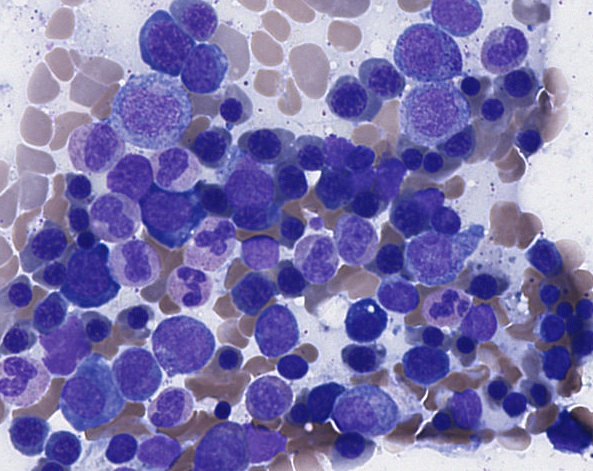objectness: (327, 388, 377, 438), (190, 213, 240, 263), (420, 279, 470, 329), (145, 384, 195, 434), (166, 258, 216, 308), (68, 119, 118, 169), (327, 214, 377, 264), (244, 369, 294, 419), (148, 139, 198, 189), (481, 24, 531, 74), (87, 189, 137, 239), (290, 234, 340, 284), (111, 238, 161, 288), (111, 344, 161, 394), (251, 303, 301, 353), (62, 372, 112, 422), (534, 337, 584, 387), (307, 158, 357, 208), (295, 376, 345, 426), (487, 382, 537, 432), (407, 229, 457, 279), (526, 304, 576, 354), (38, 320, 88, 370), (416, 395, 466, 445), (452, 297, 502, 347), (336, 131, 386, 181), (311, 126, 361, 176), (539, 288, 589, 338), (520, 270, 570, 320), (442, 383, 492, 433), (372, 271, 422, 321), (234, 225, 284, 275), (421, 194, 471, 244), (94, 421, 144, 471), (339, 296, 389, 346), (265, 341, 315, 391), (325, 420, 375, 470), (468, 83, 518, 133), (471, 365, 521, 415), (183, 120, 233, 170), (507, 115, 557, 165), (53, 191, 103, 241), (397, 339, 447, 389), (136, 19, 186, 69), (49, 155, 99, 205), (200, 333, 250, 383), (267, 157, 317, 207), (457, 261, 507, 311), (263, 253, 313, 303), (265, 204, 315, 254), (69, 303, 119, 353), (238, 118, 288, 168), (341, 179, 391, 229), (363, 233, 413, 283), (60, 248, 110, 298), (359, 53, 409, 103), (284, 132, 334, 182), (142, 185, 192, 235), (404, 310, 454, 360), (187, 175, 237, 225), (324, 74, 374, 124), (440, 321, 490, 371), (495, 57, 545, 107), (519, 229, 569, 279), (27, 250, 77, 300), (23, 286, 73, 336), (385, 132, 435, 182), (432, 119, 482, 169), (445, 57, 495, 107), (512, 369, 562, 419), (174, 44, 224, 94), (224, 265, 274, 315), (387, 190, 437, 240), (337, 333, 387, 383), (112, 291, 162, 341), (204, 84, 254, 134), (24, 218, 74, 268), (1, 408, 51, 458), (224, 192, 274, 242), (407, 138, 457, 188), (405, 88, 455, 138), (400, 24, 450, 74), (155, 313, 205, 363), (44, 422, 94, 471), (0, 352, 47, 402), (547, 405, 593, 455), (193, 426, 243, 471), (132, 426, 182, 471), (0, 271, 43, 321), (174, 0, 224, 42), (0, 313, 39, 363), (556, 286, 593, 336), (431, 0, 481, 36), (560, 321, 593, 371)
